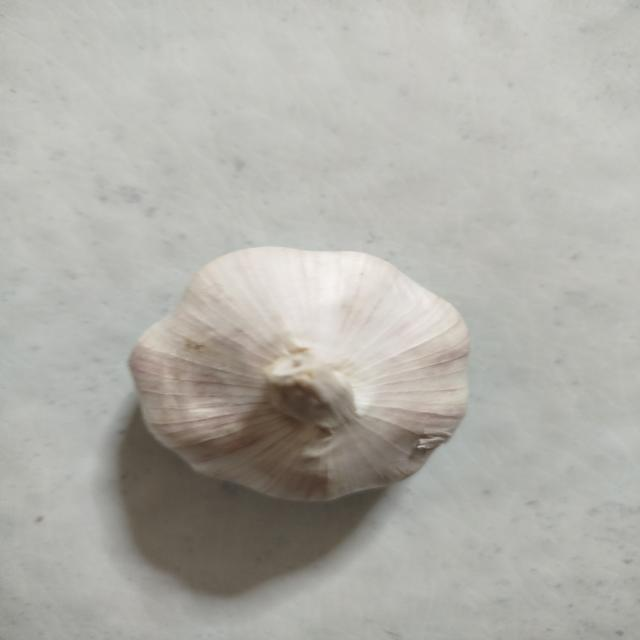garlic: (127, 245, 471, 503)
